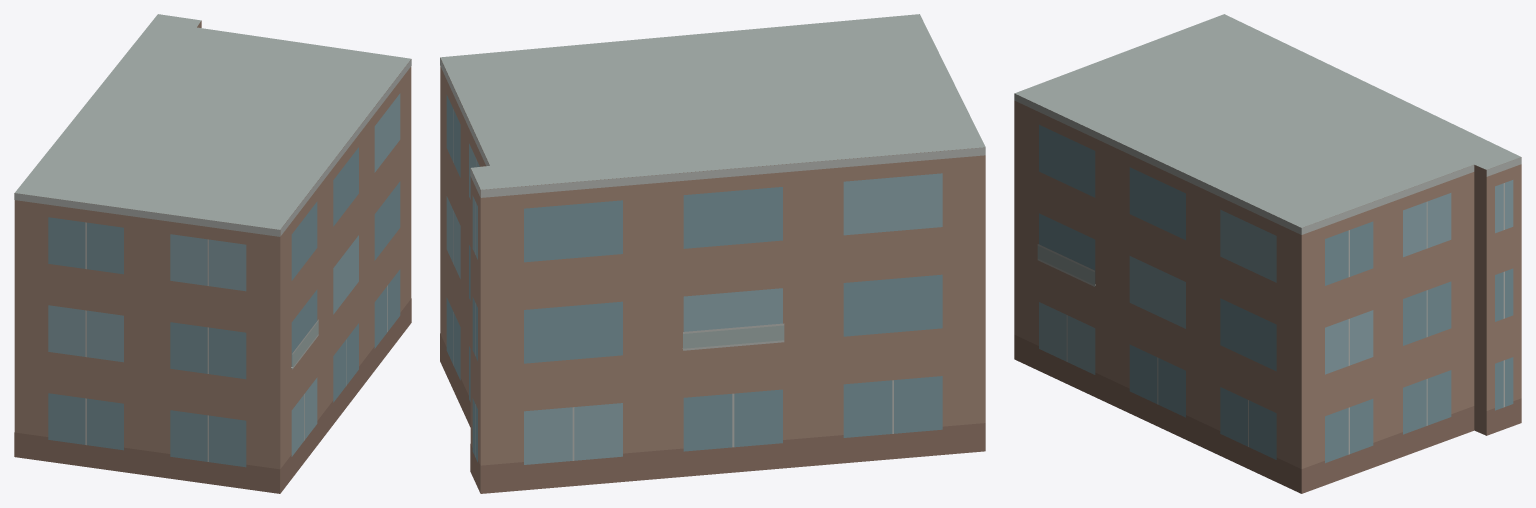
File: survey-upis-32709390.glb
3 renders of one model, left to right at view 1: azimuth 30°, elevation 25°; view 2: azimuth 150°, elevation 25°; view 3: azimuth 270°, elevation 25°, orthographic. The views are drawn at different scales.
Visible parts, largest first — view 1: survey-upis-32709390.tmp; view 2: survey-upis-32709390.tmp; view 3: survey-upis-32709390.tmp.
Boxes of the visible parts, left/top/right/bottom form: survey-upis-32709390.tmp: left=14, top=14, right=411, bottom=493; survey-upis-32709390.tmp: left=440, top=14, right=985, bottom=493; survey-upis-32709390.tmp: left=1014, top=14, right=1521, bottom=493.
Size of the model in its own units: 15.8 by 9.15 by 15.82.
